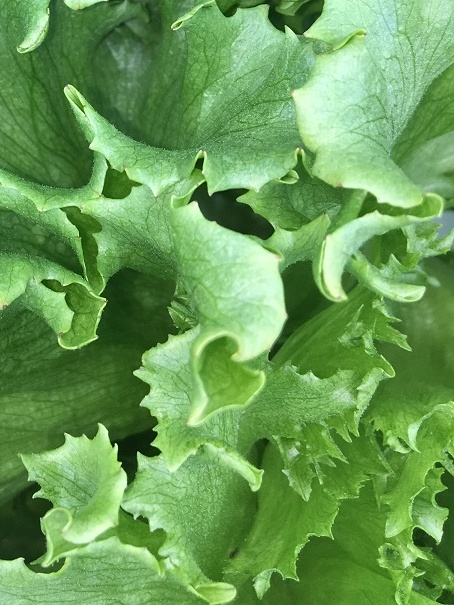tipburn: (269, 249, 286, 266), (285, 85, 302, 102), (194, 144, 212, 160), (54, 325, 70, 342), (183, 415, 200, 431), (168, 17, 185, 33), (353, 26, 370, 42), (162, 462, 181, 476), (57, 524, 73, 540), (149, 187, 165, 203), (298, 27, 314, 43), (1, 296, 13, 317), (76, 201, 92, 216), (317, 207, 332, 223), (292, 144, 309, 158), (416, 189, 434, 202), (333, 178, 348, 193), (331, 289, 344, 306)
